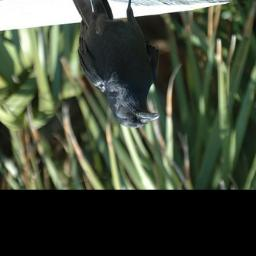Crow: (71, 0, 159, 128)
